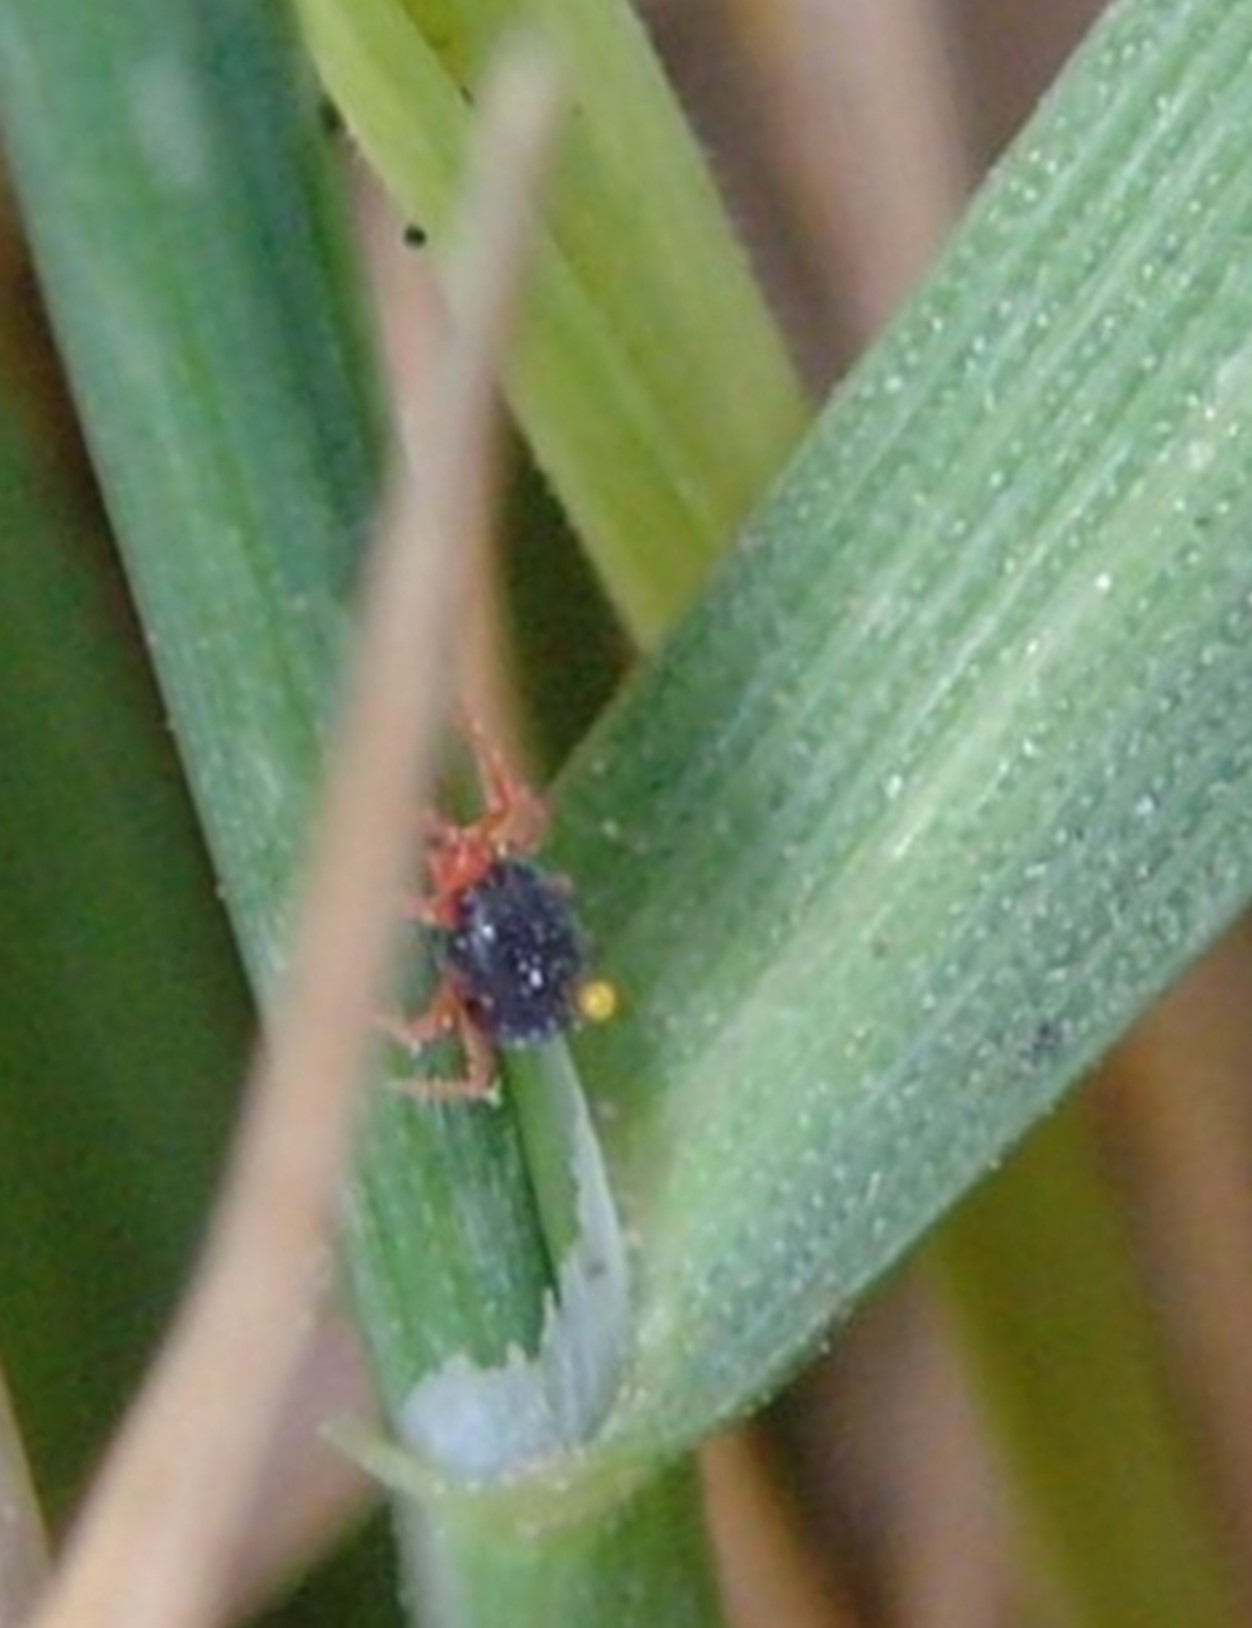Wheat Red Spider: (358, 686, 679, 1161)
